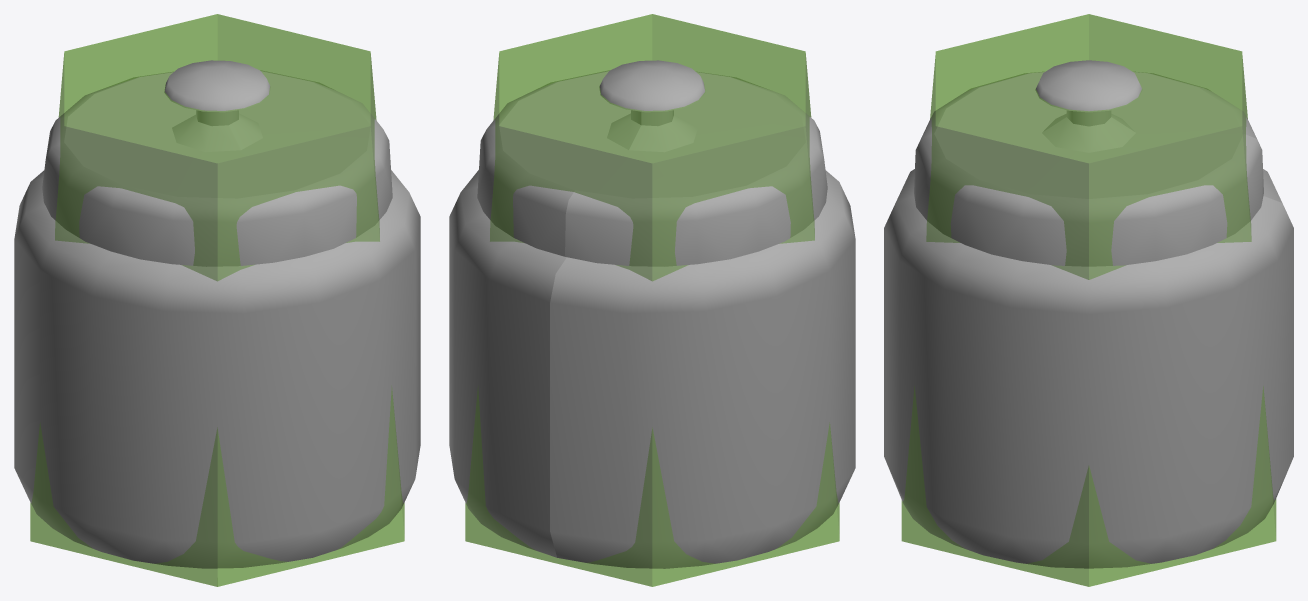
Rendered from p_GlassJar_01_b.fbx.
The picture shows the model from 3 angles, left to right: view 1: azimuth 30°, elevation 25°; view 2: azimuth 150°, elevation 25°; view 3: azimuth 270°, elevation 25°; orthographic projection.
Parts seen in each view (by area): view 1: p_GlassJar_01_b_LOD0, p_GlassJar_01_b_col; view 2: p_GlassJar_01_b_LOD0, p_GlassJar_01_b_col; view 3: p_GlassJar_01_b_LOD0, p_GlassJar_01_b_col.
Part boxes in pixels (box(x1,y1,x2,y2)): p_GlassJar_01_b_LOD0: box(14, 60, 420, 568); p_GlassJar_01_b_col: box(30, 14, 404, 586); p_GlassJar_01_b_LOD0: box(449, 60, 855, 568); p_GlassJar_01_b_col: box(465, 14, 839, 586); p_GlassJar_01_b_LOD0: box(884, 60, 1293, 568); p_GlassJar_01_b_col: box(901, 14, 1276, 586).
Size of what is drawn, in the model's own units: 22.77 by 24.77 by 21.58.
